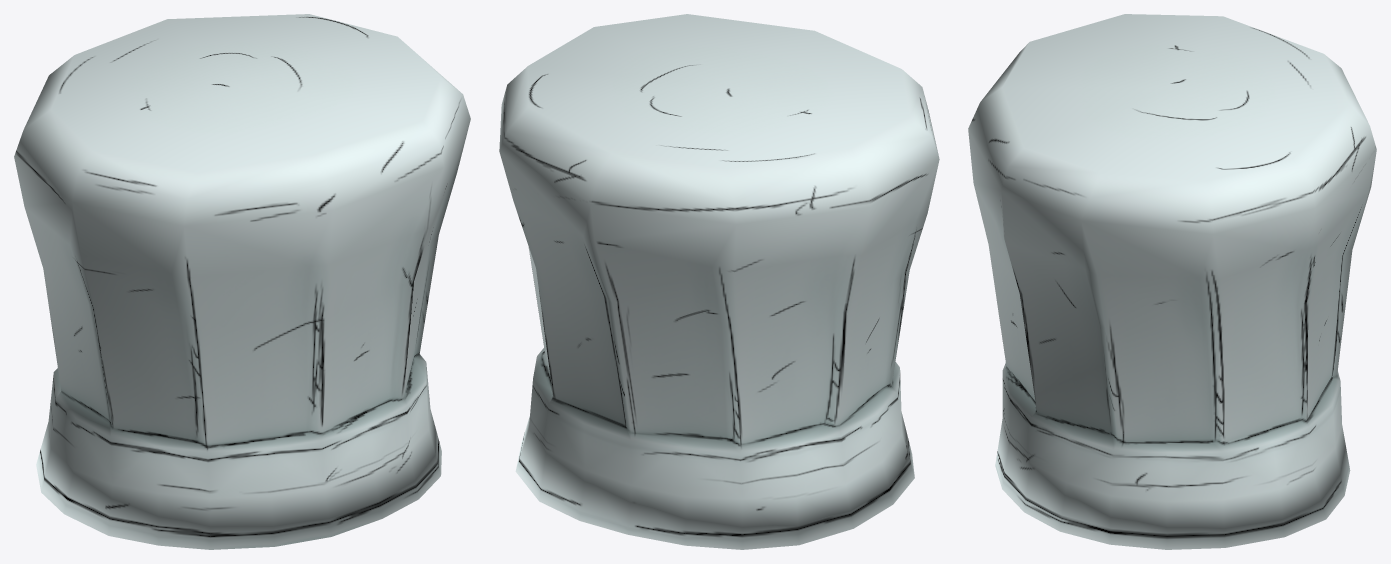
Rendered from ChefHat.fbx.
3 renders of one model, left to right at view 1: azimuth 30°, elevation 25°; view 2: azimuth 150°, elevation 25°; view 3: azimuth 270°, elevation 25°, orthographic. The views are drawn at different scales.
Parts seen in each view (by area): view 1: ChefHat; view 2: ChefHat; view 3: ChefHat.
Part boxes in pixels (left/top/right/bottom): ChefHat: left=14, top=14, right=470, bottom=549; ChefHat: left=499, top=14, right=939, bottom=549; ChefHat: left=968, top=14, right=1376, bottom=549.
Bounding box in the file's own units: 0.6585 × 0.6228 × 0.603.
